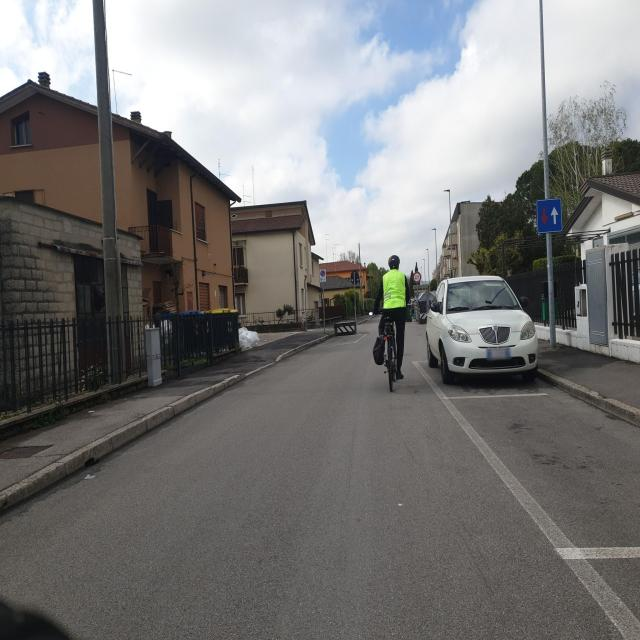bike: (373, 304, 407, 394)
car: (426, 274, 538, 386), (416, 291, 436, 324)
